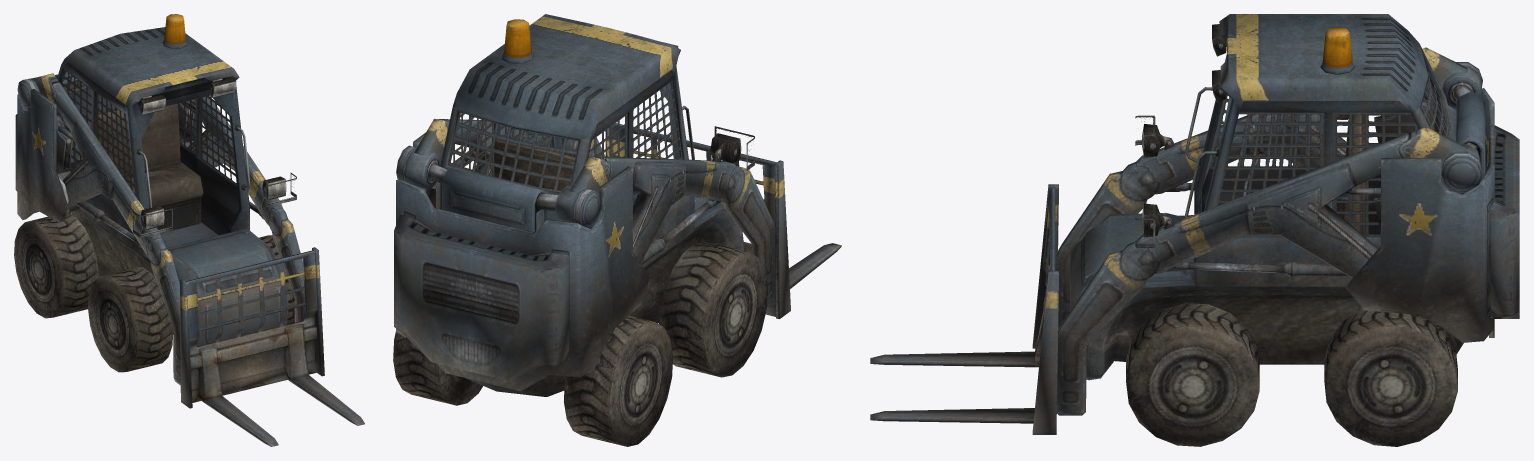
The model's file is ForkLift2.fbx.
The picture shows the model from 3 angles, left to right: view 1: azimuth 30°, elevation 25°; view 2: azimuth 150°, elevation 25°; view 3: azimuth 270°, elevation 25°; orthographic projection. The views are drawn at different scales.
Visible parts, largest first — view 1: ForkLift:Mesh; view 2: ForkLift:Mesh; view 3: ForkLift:Mesh.
Part boxes in pixels (box(x1,y1,x2,y2)): ForkLift:Mesh: box(14, 14, 364, 446); ForkLift:Mesh: box(393, 14, 841, 446); ForkLift:Mesh: box(870, 14, 1519, 446).
Bounding box in the file's own units: 3.84 × 6.18 × 9.56.
